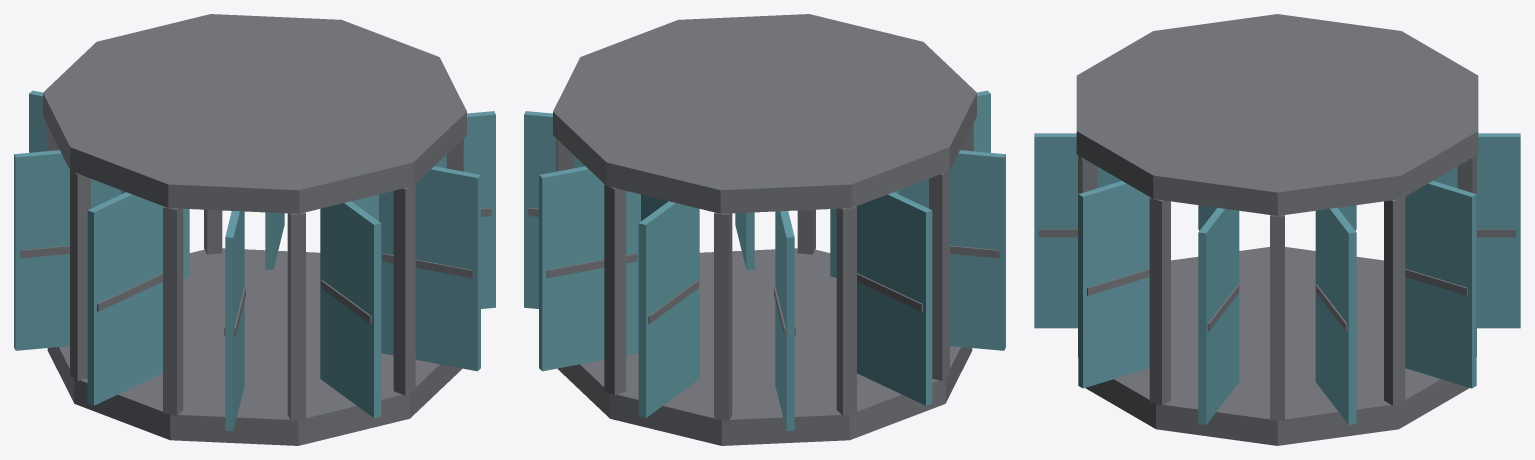
Rendered from lighthouse-and-rocky-coast-lighthouse-lantern-room-74b8d8de__36587.glb.
3 renders of one model, left to right at view 1: azimuth 30°, elevation 25°; view 2: azimuth 150°, elevation 25°; view 3: azimuth 270°, elevation 25°, orthographic.
Parts seen in each view (by area): view 1: lighthouse-lantern-room; view 2: lighthouse-lantern-room; view 3: lighthouse-lantern-room.
Boxes of the visible parts, x1,y1,x2,y2 form: lighthouse-lantern-room: (14, 14, 495, 445); lighthouse-lantern-room: (524, 14, 1005, 445); lighthouse-lantern-room: (1034, 14, 1520, 445).
Size of the model in its own units: 3.96 by 2.4 by 4.14.
